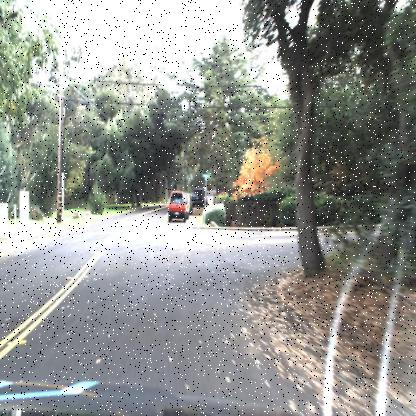car: (166, 187, 187, 227), (186, 185, 208, 208), (191, 186, 208, 209), (184, 190, 191, 218)
